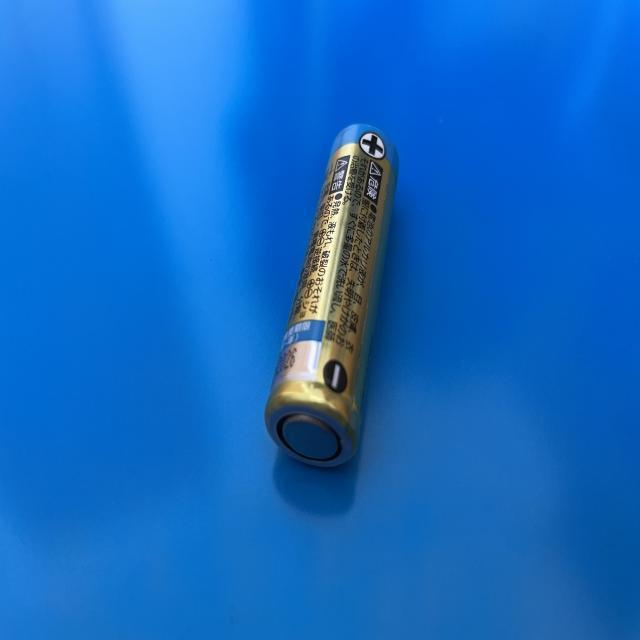AAA: (263, 123, 401, 472)
